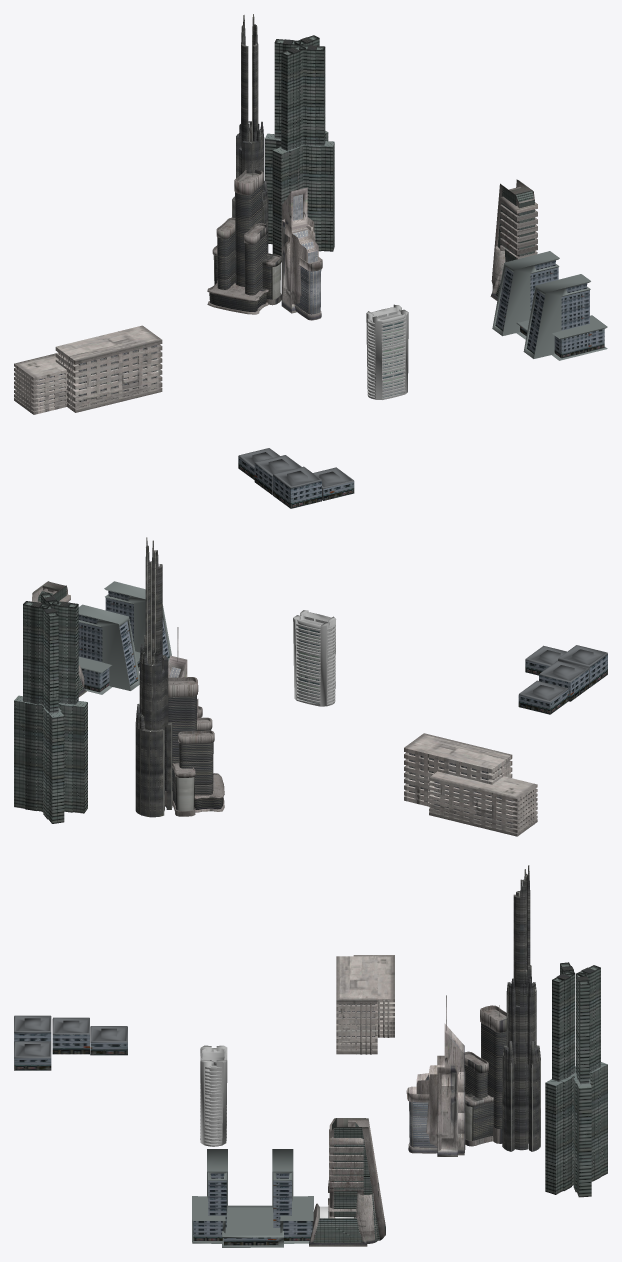
File: The_City2.obj
The picture shows the model from 3 angles, top to bottom: view 1: azimuth 30°, elevation 25°; view 2: azimuth 150°, elevation 25°; view 3: azimuth 270°, elevation 25°; orthographic projection. The views are drawn at different scales.
Parts seen in each view (by area): view 1: city2; view 2: city2; view 3: city2.
Part boxes in pixels (x1,y1,x2,y2): city2: (14, 14, 607, 508); city2: (14, 537, 607, 836); city2: (14, 865, 607, 1247).
Size of the model in its own units: 1664 by 843 by 1627.
